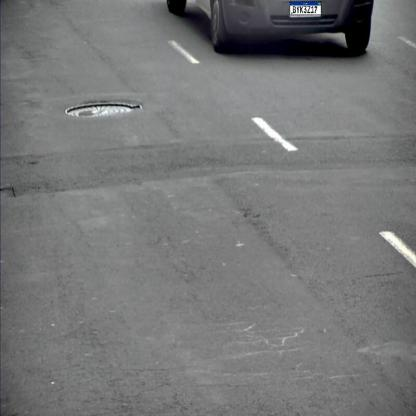PlacaM: (290, 2, 321, 16)
